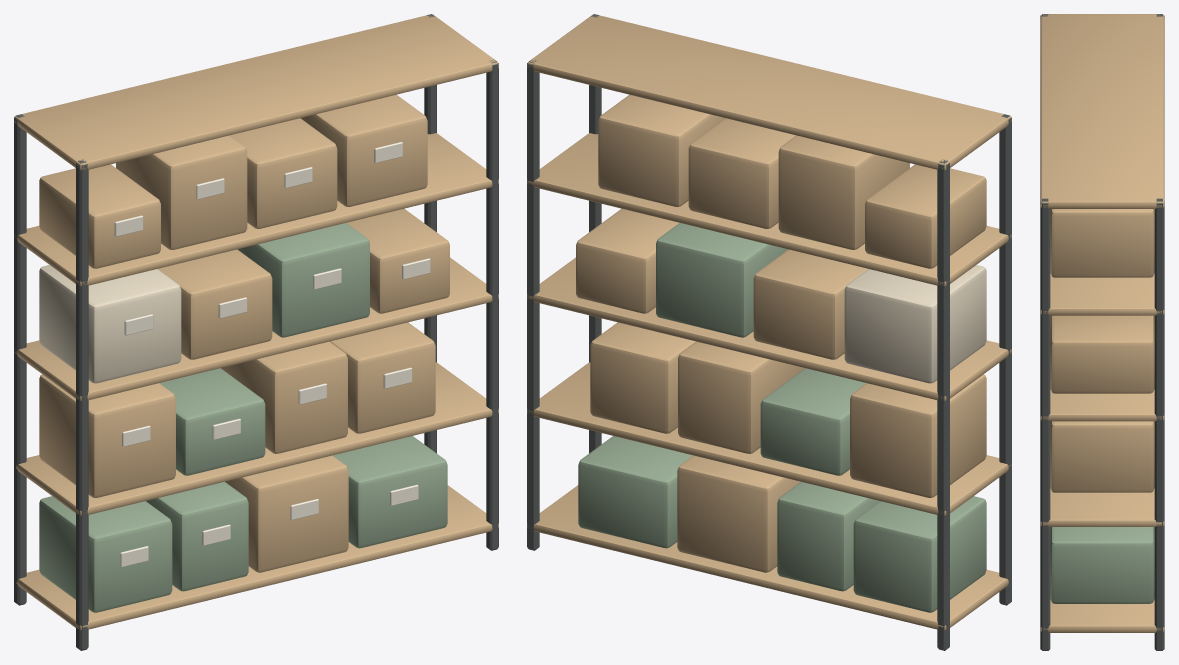
The model's file is storage_shelf.glb.
3 renders of one model, left to right at view 1: azimuth 30°, elevation 25°; view 2: azimuth 150°, elevation 25°; view 3: azimuth 270°, elevation 25°, orthographic. The views are drawn at different scales.
Parts seen in each view (by area): view 1: FURN-storage_shelf; view 2: FURN-storage_shelf; view 3: FURN-storage_shelf.
Boxes of the visible parts, left/top/right/bottom form: FURN-storage_shelf: left=14, top=14, right=498, bottom=650; FURN-storage_shelf: left=527, top=14, right=1011, bottom=650; FURN-storage_shelf: left=1040, top=14, right=1164, bottom=650.
Size of the model in its own units: 1.8 by 2 by 0.5.
